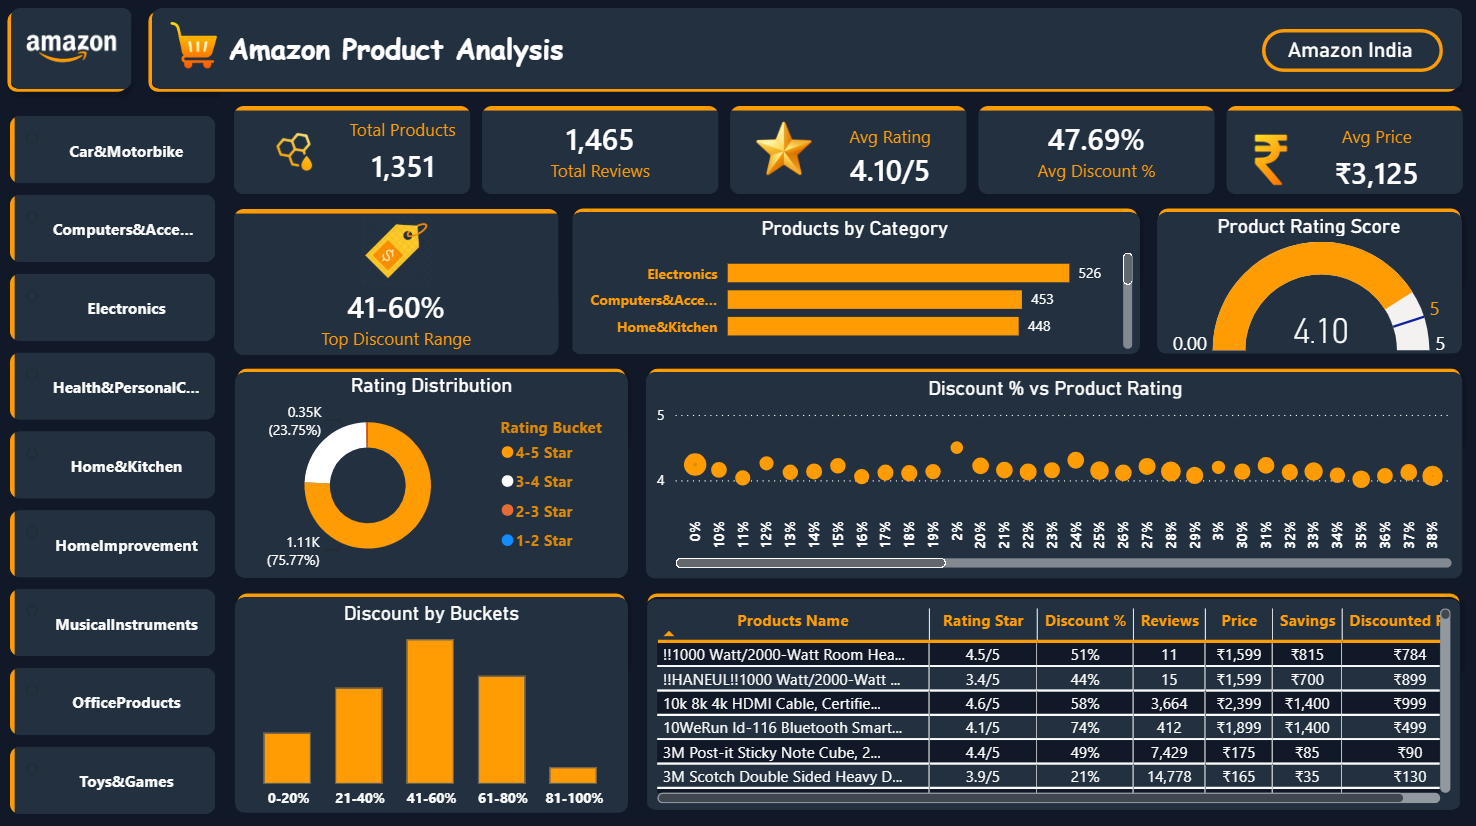

This screenshot's page, from the dashboard's own definition file:
{"tool":"powerbi","page":{"name":"Page 1","canvas":[1280,720],"ordinal":0},"visuals":[{"type":"shape","box":[0,6,121.5,87.2],"z":1000},{"type":"image","box":[11.8,11.8,103.6,70],"z":2000},{"type":"shape","box":[198.4,508,352.8,85.4],"z":3000},{"type":"shape","box":[121.8,6.4,1147.3,87.3],"z":4000},{"type":"shape","box":[205.3,520.1,339,186.3],"z":4500},{"type":"cardVisual","fields":{"Data":["amazon4.Total Products","amazon4.Total Reviews","amazon4.Avg Rating","amazon4.Avg Discount %","amazon4.Avg Discounted Price"]},"box":[192.3,84.5,1087.7,100.1],"z":5000},{"type":"shape","box":[133.6,11.8,1130,70],"z":6000},{"type":"image","box":[133.6,24.5,71.8,40],"z":7000},{"type":"textbox","title":"Amazon Product Analysis","box":[191.8,30,305.5,34.5],"z":8000},{"type":"shape","box":[488.2,176.4,504.5,86.4],"z":9000},{"type":"shape","box":[495.5,188.2,490.9,122.7],"z":10000},{"type":"clusteredColumnChart","fields":{"Category":["amazon4.Discount Bucket"],"Y":["amazon4.Products by Bucket"]},"box":[205.3,523.6,339,182.9],"z":11000},{"type":"clusteredBarChart","title":"Products by Category","fields":{"Category":["amazon4.Main Category"],"Y":["CountNonNull(amazon4.Product Count)"]},"box":[500,191.8,479.1,114.5],"z":12000},{"type":"cardVisual","fields":{"Data":["amazon4.Top Discount Range"]},"box":[192.3,173.4,304.5,150.1],"z":13000},{"type":"shape","box":[1091.1,30.2,156.1,37.1],"z":14000},{"type":"textbox","title":"Amazon India","box":[1108.4,37.1,131.1,23.3],"z":15000},{"type":"shape","box":[992.8,176,278.6,87.1],"z":23000},{"type":"shape","box":[11.2,105.2,177.7,594.3],"z":24500},{"type":"shape","box":[552,508,718.5,85.4],"z":26000},{"type":"advancedSlicerVisual","fields":{"Values":["amazon4.Main Category"]},"box":[11.2,105.2,177.7,608.1],"z":27000},{"type":"shape","box":[559.8,521,703,182.9],"z":28000},{"type":"shape","box":[198.4,314,352.8,85.4],"z":29000},{"type":"shape","box":[205.3,326,339,177.7],"z":30000},{"type":"tableEx","fields":{"Values":["amazon4.Short Product Name","amazon4.Rating Star","amazon4.Discount %","amazon4.Reviews","amazon4.Actual Price1","amazon4.Savings","amazon4.Discounted Price"]},"box":[560,520.9,702.7,186.4],"z":31000},{"type":"donutChart","title":"Rating Distribution","fields":{"Category":["amazon4.Rating Bucket"],"Y":["CountNonNull(amazon4.Short Name)"]},"box":[205.3,326.9,339,169.9],"z":32000},{"type":"shape","box":[1000.5,188,263.1,122.5],"z":33000},{"type":"shape","box":[552.9,314,718.5,85.4],"z":34000},{"type":"scatterChart","title":"Discount % vs Product Rating","fields":{"Y":["Avg(amazon4.rating)"],"Size":["CountNonNull(amazon4.Reviews)"],"X":["amazon4.Discount %"]},"box":[559.8,326,703.8,177.7],"z":35000},{"type":"gauge","title":"Product Rating Score","fields":{"Y":["Avg(amazon4.rating)"],"MaxValue":["Max(amazon4.Rating Target)"],"TargetValue":["amazon4.Rating Target1"]},"box":[1000.5,189.8,262.2,122.5],"z":36000}]}

Visuals, with their boxes in screenshot pixels (x1, y1, x2, y2), scaled from the page's 1280x720 canvas onto the 1476x826 screenshot:
shape: <box>0,7,140,107</box>
image: <box>14,14,133,94</box>
shape: <box>229,583,636,681</box>
shape: <box>140,7,1463,107</box>
shape: <box>237,597,628,810</box>
cardVisual - amazon4.Total Products x amazon4.Total Reviews: <box>222,97,1475,212</box>
shape: <box>154,14,1457,94</box>
image: <box>154,28,237,74</box>
"Amazon Product Analysis" textbox: <box>221,34,573,74</box>
shape: <box>563,202,1145,301</box>
shape: <box>571,216,1137,357</box>
clusteredColumnChart - amazon4.Discount Bucket x amazon4.Products by Bucket: <box>237,601,628,811</box>
"Products by Category" clusteredBarChart: <box>577,220,1129,351</box>
cardVisual - amazon4.Top Discount Range: <box>222,199,573,371</box>
shape: <box>1258,35,1438,77</box>
"Amazon India" textbox: <box>1278,43,1429,69</box>
shape: <box>1145,202,1466,302</box>
shape: <box>13,121,218,802</box>
shape: <box>637,583,1465,681</box>
advancedSlicerVisual - amazon4.Main Category: <box>13,121,218,818</box>
shape: <box>646,598,1456,808</box>
shape: <box>229,360,636,458</box>
shape: <box>237,374,628,578</box>
tableEx - amazon4.Short Product Name x amazon4.Rating Star: <box>646,598,1456,811</box>
"Rating Distribution" donutChart: <box>237,375,628,570</box>
shape: <box>1154,216,1457,356</box>
shape: <box>638,360,1466,458</box>
"Discount % vs Product Rating" scatterChart: <box>646,374,1457,578</box>
"Product Rating Score" gauge: <box>1154,218,1456,358</box>
